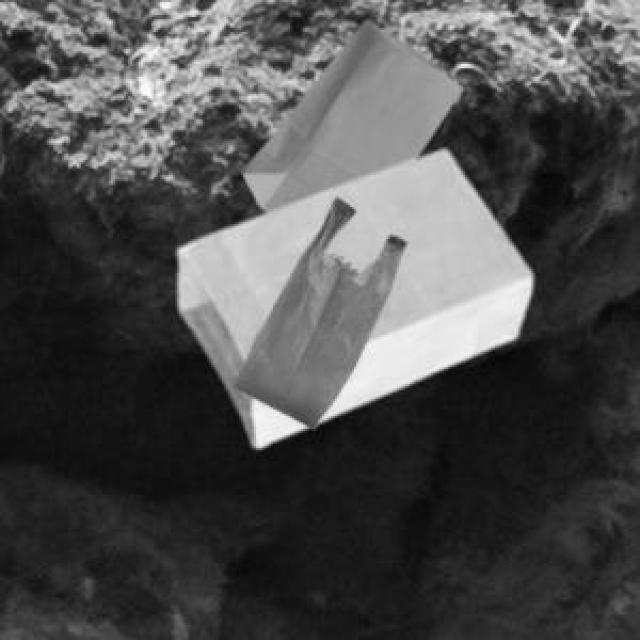paper: (175, 145, 527, 444), (239, 17, 457, 209)
